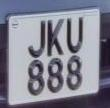8: (25, 57, 48, 100), (45, 55, 67, 97), (65, 53, 85, 96)
J: (25, 17, 49, 60)
K: (46, 15, 65, 56)
U: (65, 14, 85, 57)
